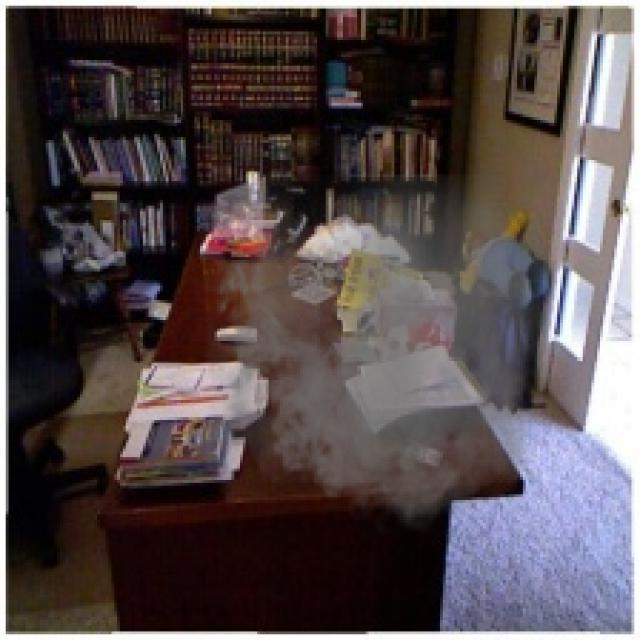Smoke: (206, 174, 548, 543)
